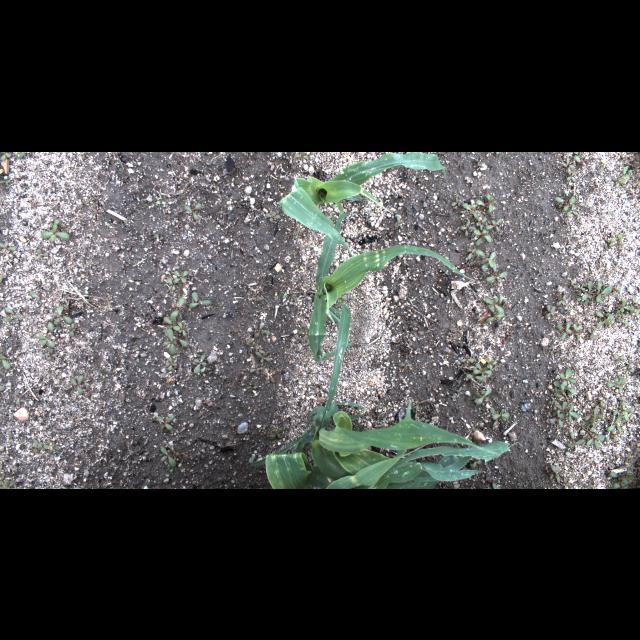crop: (249, 302, 511, 488), (308, 211, 474, 361), (278, 152, 446, 256)
weed: (574, 280, 612, 304), (40, 224, 70, 240), (582, 426, 604, 446), (610, 468, 632, 488), (486, 262, 506, 282), (472, 225, 492, 245), (554, 320, 574, 340), (473, 362, 492, 382), (482, 295, 503, 313), (472, 386, 492, 404), (606, 376, 626, 394), (54, 305, 72, 325), (461, 202, 481, 220), (189, 291, 211, 307), (160, 446, 176, 468), (560, 368, 576, 390), (614, 402, 632, 420), (596, 310, 614, 328), (475, 250, 495, 266), (584, 407, 600, 427), (164, 328, 176, 354), (554, 196, 576, 210), (184, 203, 202, 219), (255, 321, 271, 339), (70, 374, 84, 394), (35, 332, 55, 346), (170, 297, 184, 317), (550, 409, 566, 426), (164, 314, 180, 330), (460, 220, 476, 236), (606, 415, 622, 431), (156, 416, 174, 430), (554, 381, 574, 393), (466, 366, 484, 379), (194, 353, 206, 372), (5, 307, 19, 323), (170, 446, 184, 462), (486, 218, 502, 232), (482, 251, 494, 269), (549, 465, 561, 483), (567, 404, 579, 422), (486, 193, 496, 213), (35, 248, 49, 262), (298, 326, 312, 340), (620, 298, 634, 312), (0, 240, 16, 252), (172, 270, 188, 282), (493, 408, 509, 420), (44, 444, 62, 454), (572, 322, 582, 340), (564, 156, 574, 174), (255, 351, 271, 362), (32, 439, 46, 451), (266, 210, 280, 222), (270, 426, 282, 440), (549, 397, 561, 411), (609, 283, 621, 297), (0, 354, 10, 370), (171, 335, 187, 345), (489, 406, 497, 426), (484, 356, 494, 372), (610, 308, 620, 324), (612, 176, 626, 187), (566, 439, 584, 447), (2, 312, 20, 320), (45, 348, 57, 360), (486, 313, 504, 321), (566, 204, 578, 216), (617, 312, 629, 324), (249, 364, 263, 374), (477, 216, 487, 230), (596, 400, 606, 414), (613, 352, 625, 363), (49, 218, 60, 230), (166, 358, 177, 370), (173, 204, 184, 216), (294, 151, 310, 159), (462, 204, 478, 212), (476, 200, 492, 208), (622, 364, 634, 374), (1, 480, 16, 488), (154, 232, 164, 244), (78, 198, 90, 208), (556, 293, 566, 305), (606, 431, 618, 441), (610, 232, 622, 242), (623, 166, 633, 178), (574, 154, 584, 166), (14, 390, 22, 404), (178, 322, 186, 336), (396, 214, 404, 228), (546, 304, 554, 318), (550, 388, 564, 396), (471, 458, 482, 468), (468, 247, 477, 259), (630, 296, 636, 314), (32, 442, 42, 452), (44, 322, 54, 332), (338, 294, 348, 304), (566, 170, 576, 180), (8, 431, 15, 445), (588, 327, 596, 339), (0, 151, 12, 159), (167, 278, 175, 290), (246, 341, 258, 349), (294, 226, 302, 238), (461, 355, 473, 363), (10, 404, 16, 418), (68, 322, 74, 336), (570, 432, 576, 446), (20, 387, 28, 397), (188, 272, 198, 280), (452, 198, 462, 206), (562, 478, 570, 488), (616, 238, 624, 248), (0, 179, 12, 185), (36, 164, 42, 176), (456, 385, 462, 397), (578, 422, 586, 431), (492, 482, 502, 488), (29, 291, 39, 297), (0, 273, 6, 283), (16, 152, 26, 158), (561, 402, 567, 412), (398, 362, 412, 366), (180, 453, 186, 462), (0, 474, 4, 486), (0, 385, 6, 391), (282, 291, 286, 299), (586, 421, 590, 429), (600, 388, 604, 396), (636, 308, 640, 316), (155, 200, 165, 203), (496, 151, 500, 155), (638, 346, 640, 352)
